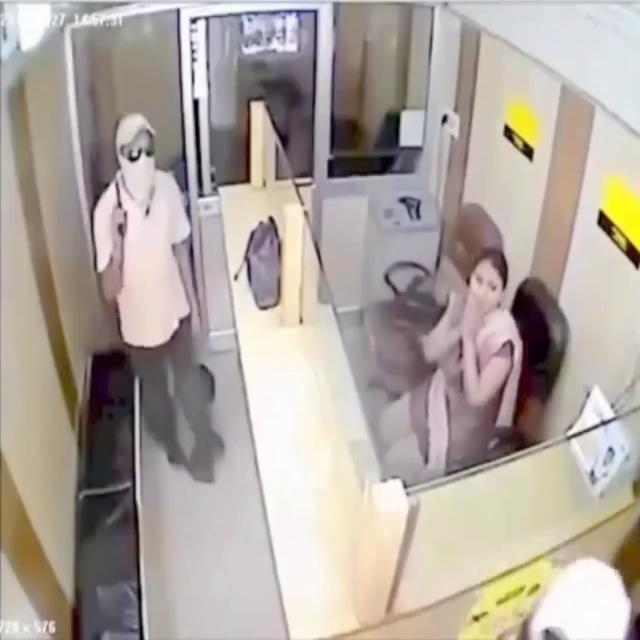weapon: (108, 175, 132, 235)
